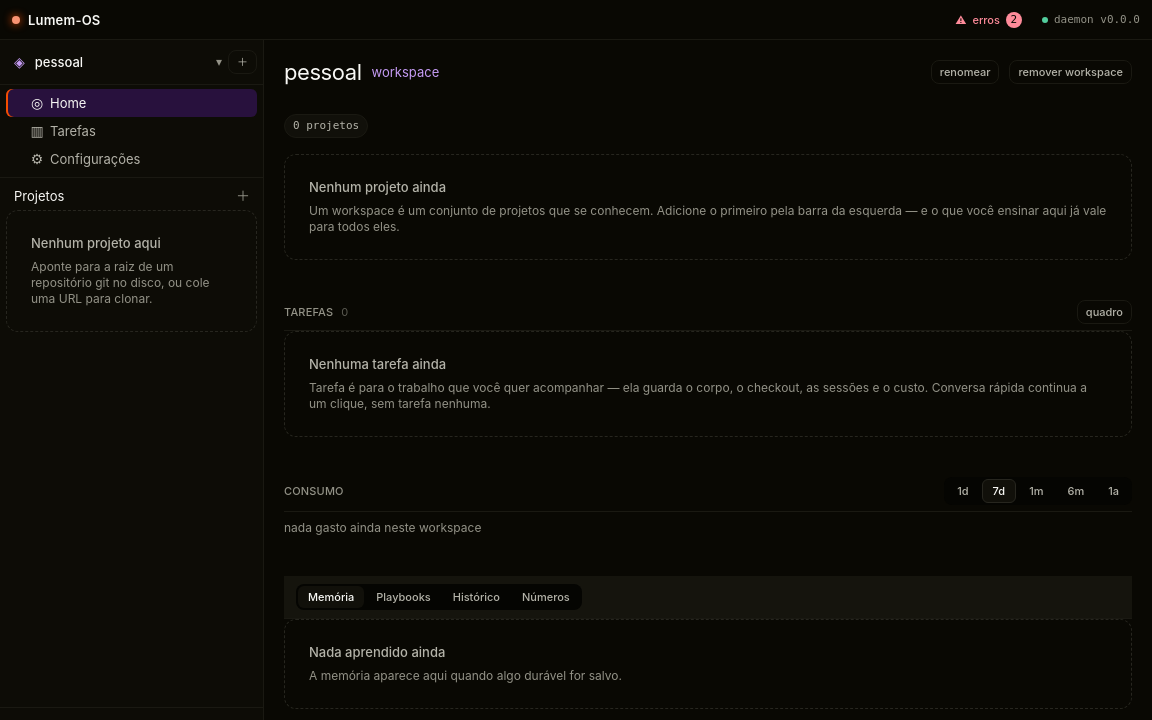
Test: remover o workspace pela tela (T6) › remover o último workspace devolve o primeiro acesso, e não uma tela vazia
Check: the text "Nenhum projeto ainda" is shown, box [309,179,446,195]
Click the button "remover workspace": [1071, 72] box [1010,60,1132,84]
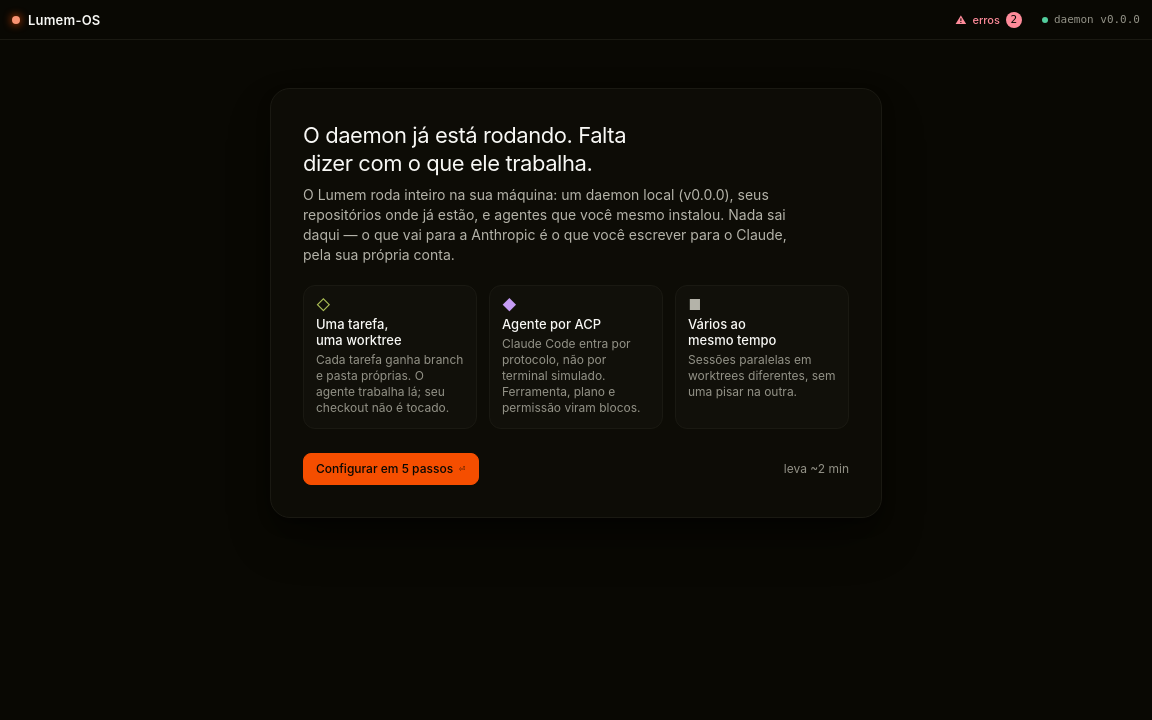
Check: the button "Configurar em 5 passos ⏎" is shown, box [303,453,479,485]
